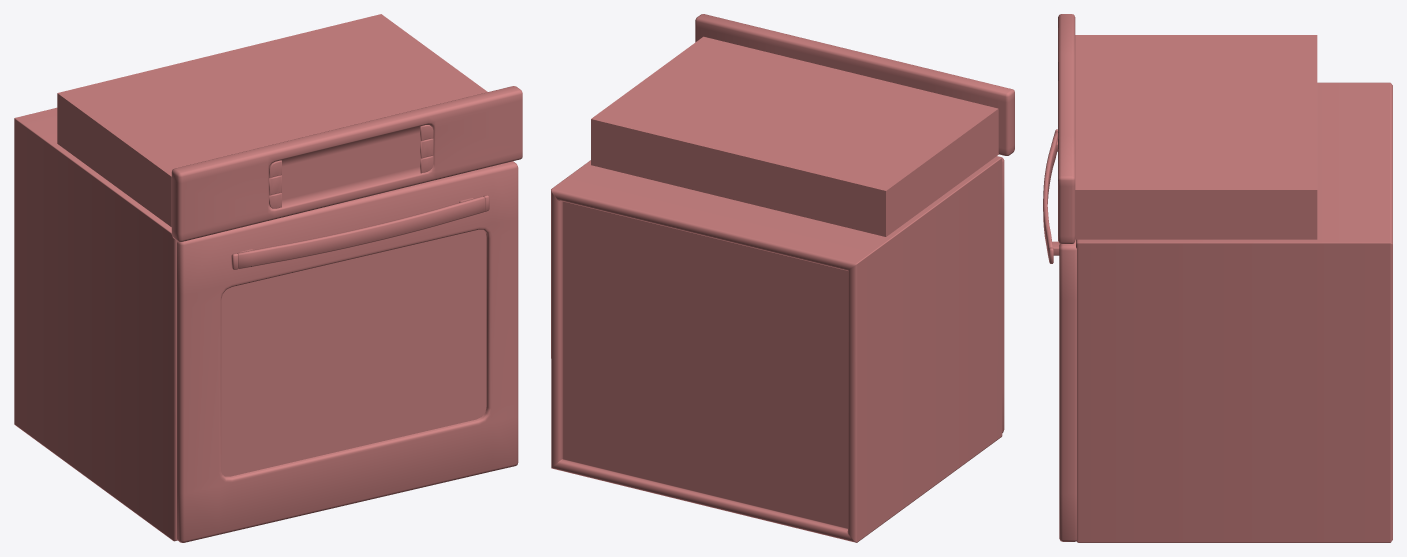
The model's file is SM_Microwave_Oven.fbx.
3 views of the same model, side by side, from view 1: azimuth 30°, elevation 25°; view 2: azimuth 150°, elevation 25°; view 3: azimuth 270°, elevation 25° (orthographic). The views are drawn at different scales.
Parts seen in each view (by area): view 1: SM_Microwave_Oven; view 2: SM_Microwave_Oven; view 3: SM_Microwave_Oven.
Boxes of the visible parts, x1,y1,x2,y2 form: SM_Microwave_Oven: (14, 14, 522, 542); SM_Microwave_Oven: (551, 14, 1014, 542); SM_Microwave_Oven: (1043, 14, 1392, 542).
Size of the model in its own units: 58.57 by 52.53 by 60.95.
